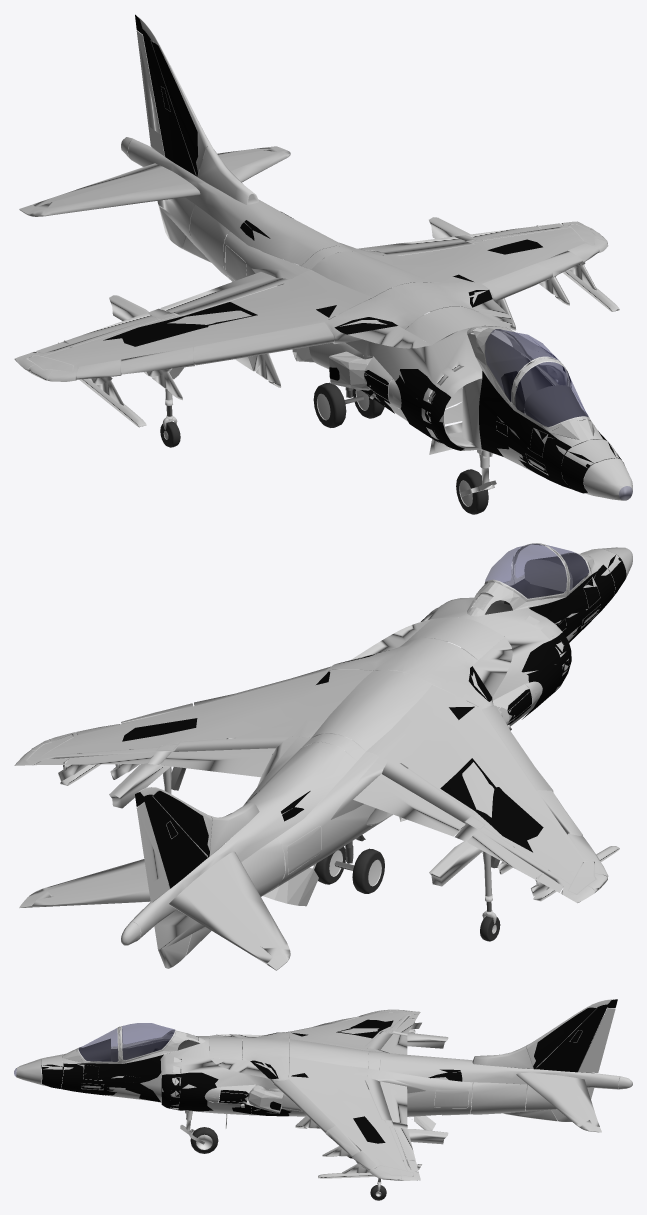
Rendered from Airplane HARR.obj.
The picture shows the model from 3 angles, top to bottom: view 1: azimuth 30°, elevation 25°; view 2: azimuth 150°, elevation 25°; view 3: azimuth 270°, elevation 25°; orthographic projection. The views are drawn at different scales.
Visible parts, largest first — view 1: (null); view 2: (null); view 3: (null).
Boxes of the visible parts, box(x1,y1,x2,y2) form: (null): box(14, 14, 632, 514); (null): box(14, 543, 632, 970); (null): box(14, 999, 632, 1200).
Size of the model in its own units: 14501 by 6115 by 22282.
